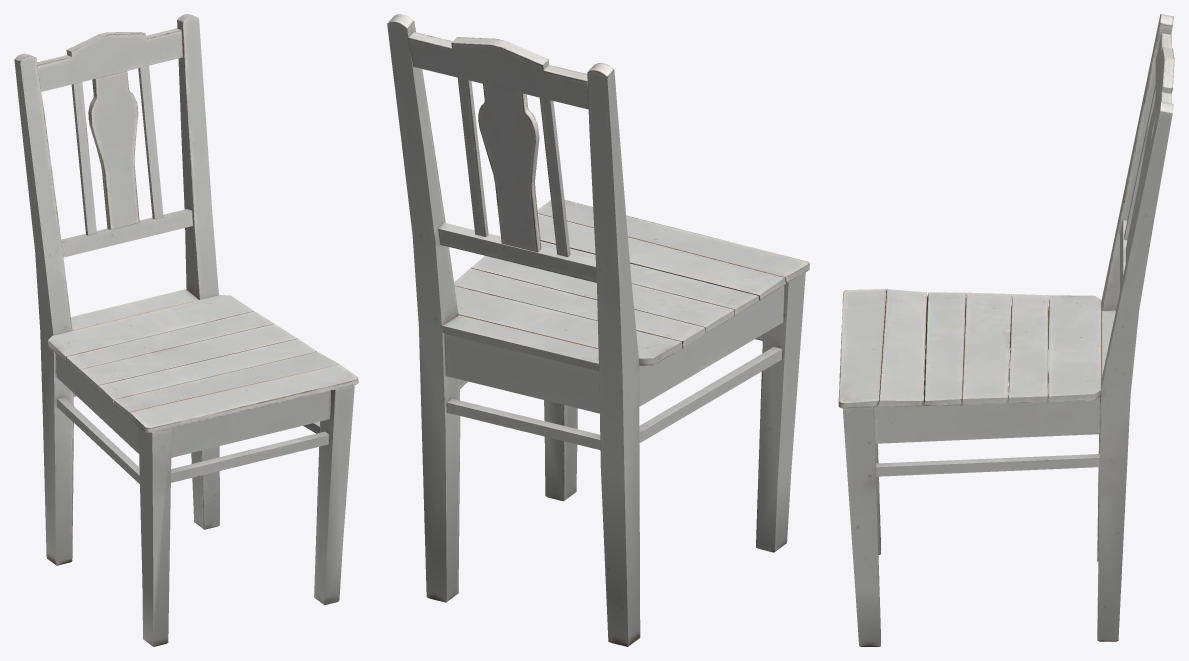
Rendered from painted_wooden_chair_01.glb.
The picture shows the model from 3 angles, left to right: view 1: azimuth 30°, elevation 25°; view 2: azimuth 150°, elevation 25°; view 3: azimuth 270°, elevation 25°; orthographic projection. The views are drawn at different scales.
Visible parts, largest first — view 1: painted_wooden_chair_01; view 2: painted_wooden_chair_01; view 3: painted_wooden_chair_01.
Boxes of the visible parts, box(x1,y1,x2,y2) form: painted_wooden_chair_01: box(14, 14, 358, 646); painted_wooden_chair_01: box(387, 14, 809, 646); painted_wooden_chair_01: box(838, 14, 1174, 646).
Bounding box in the file's own units: 0.4317 × 0.9558 × 0.5397.
Materials: 1 (1 with a texture image).
